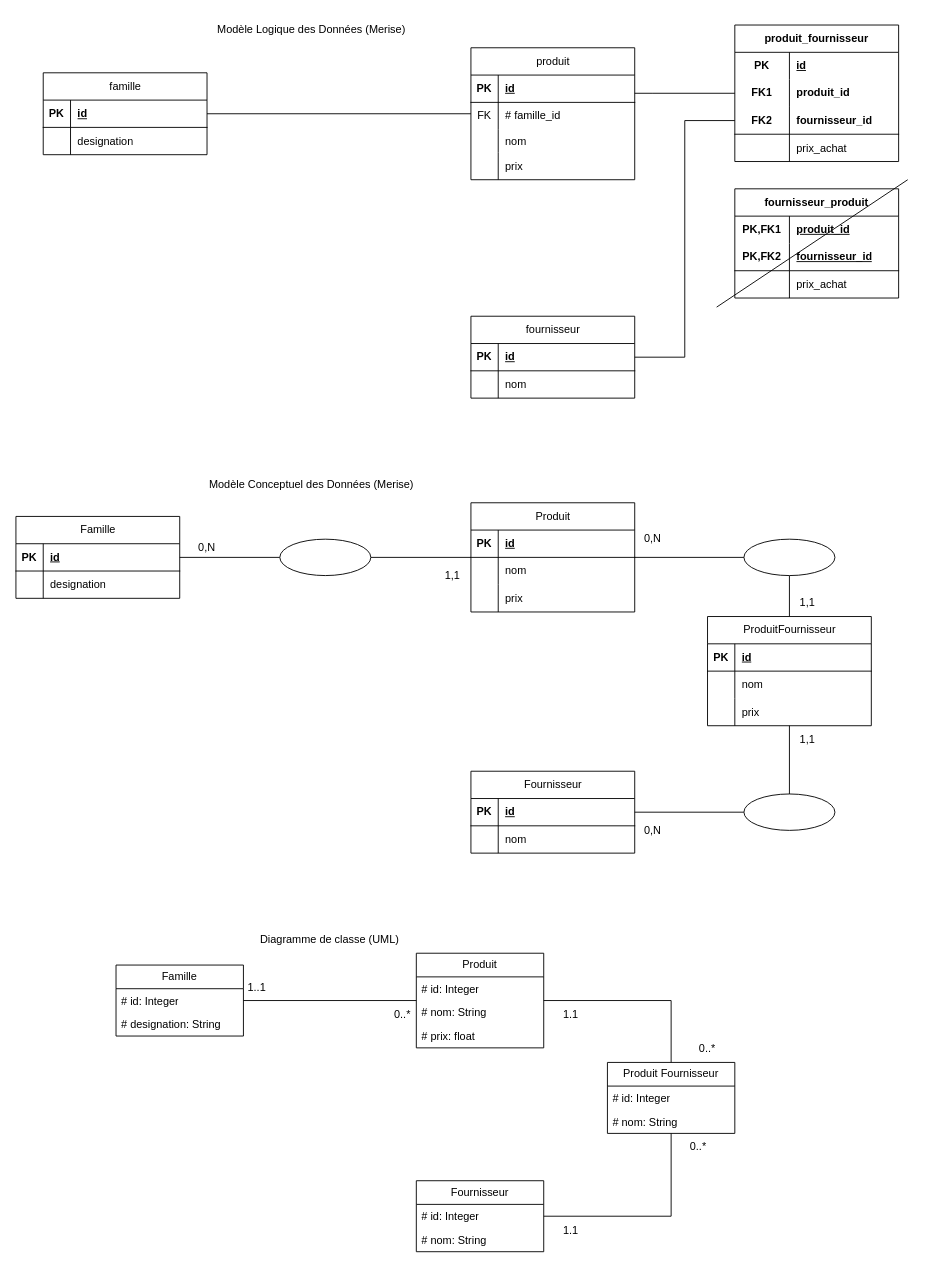
This 925x1269 diagram has some shape labels left out. The centre of each missing label's shape, as x and y in pixels:
possèder: the point at 325,557
proposer: the point at 789,811
vendre: the point at 789,557
